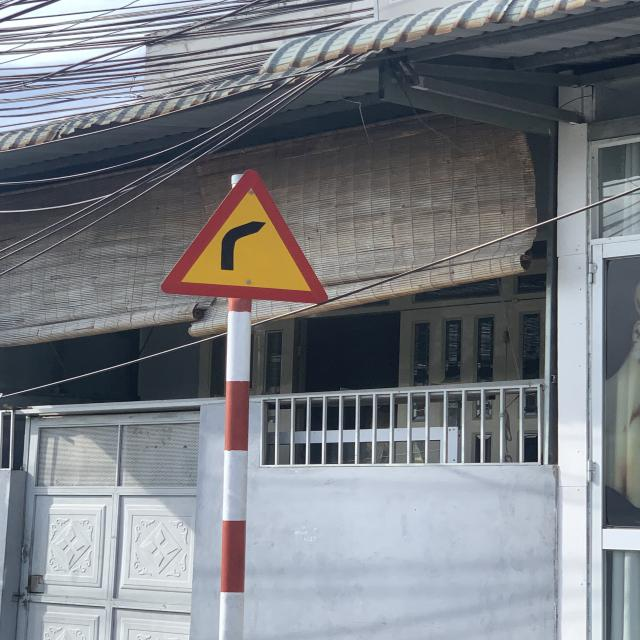Duong_Nguoi_Di_Bo_Cat_Ngang: (158, 169, 330, 304)
